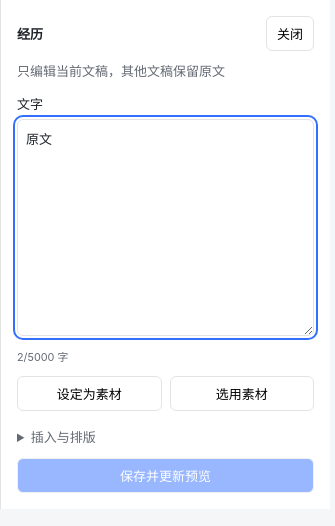
it: 选用素材与设定素材位于同一侧栏，返回保留未保存文字，按名称正文标签搜索
Replace the text in the text box labelled "文字" with "未保存的编辑" at (166, 228), box [17, 119, 314, 336]
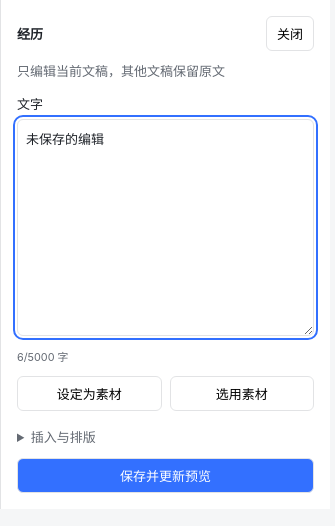
Click the button "选用素材" at (242, 394), box [170, 376, 314, 411]
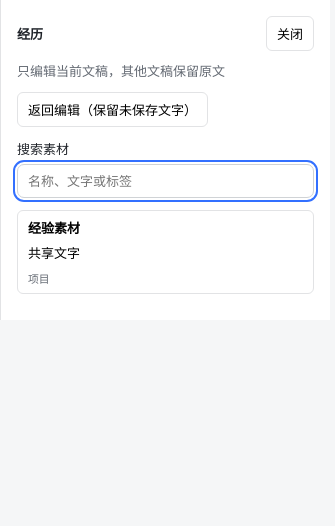
Type "项目" into the field named "搜索素材" at (166, 181), box [17, 164, 314, 198]
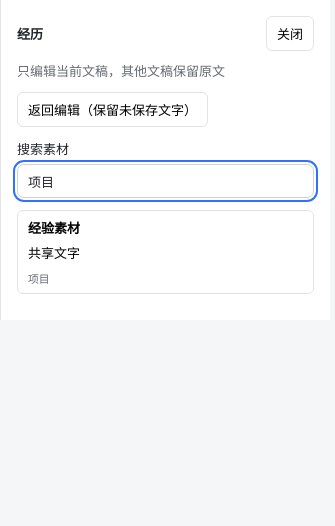
Check: the button "经验素材 共享文字 项目" is shown, box [17, 210, 314, 294]
Click the button "返回编辑（保留未保存文字）" at (112, 110), box [17, 92, 208, 127]
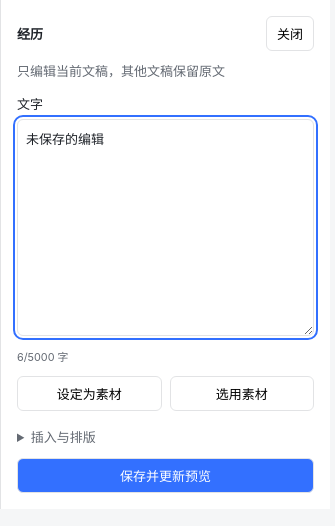
Check: the text box labelled "文字" holds "未保存的编辑", box [17, 119, 314, 336]
